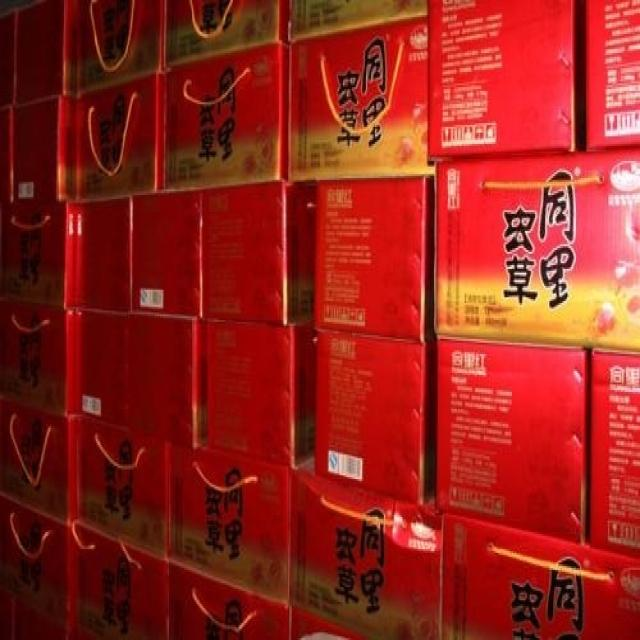box: (434, 148, 640, 350), (435, 341, 590, 547), (289, 464, 444, 640), (440, 511, 640, 638), (288, 15, 438, 180), (429, 0, 581, 161), (311, 329, 435, 507), (314, 178, 435, 341), (172, 441, 292, 604), (165, 38, 289, 189), (202, 180, 316, 326), (207, 320, 314, 468), (81, 415, 173, 559), (0, 490, 79, 636), (585, 348, 639, 560), (77, 517, 169, 640), (81, 72, 166, 201), (129, 314, 207, 449), (0, 394, 81, 524), (169, 559, 291, 638), (0, 301, 83, 415), (0, 199, 84, 311), (132, 187, 202, 318), (581, 0, 640, 151), (165, 0, 289, 66), (82, 0, 165, 89), (15, 95, 82, 203), (15, 0, 83, 106), (82, 195, 134, 312), (79, 311, 132, 424), (289, 0, 429, 42), (0, 579, 70, 640), (289, 606, 376, 640), (0, 8, 18, 106), (0, 104, 15, 203), (70, 619, 115, 640)
